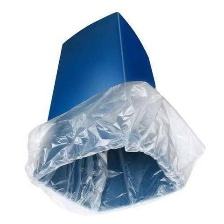plastic_bag: (18, 78, 207, 221)
